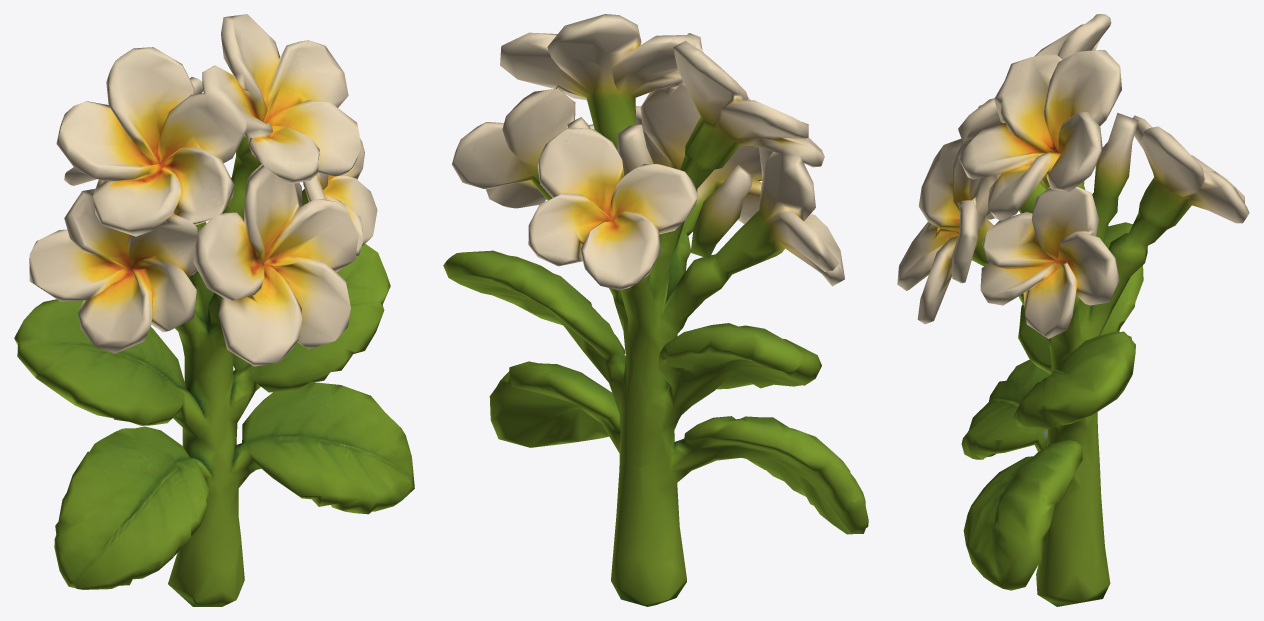
File: plumeria_s5.glb
The picture shows the model from 3 angles, left to right: view 1: azimuth 30°, elevation 25°; view 2: azimuth 150°, elevation 25°; view 3: azimuth 270°, elevation 25°; orthographic projection. The views are drawn at different scales.
Visible parts, largest first — view 1: tripo_node_1f6672ce-0666-45ec-bc07-808dfc5359ed; view 2: tripo_node_1f6672ce-0666-45ec-bc07-808dfc5359ed; view 3: tripo_node_1f6672ce-0666-45ec-bc07-808dfc5359ed.
Part boxes in pixels (x1,y1,x2,y2): tripo_node_1f6672ce-0666-45ec-bc07-808dfc5359ed: [14, 14, 414, 606]; tripo_node_1f6672ce-0666-45ec-bc07-808dfc5359ed: [443, 14, 868, 606]; tripo_node_1f6672ce-0666-45ec-bc07-808dfc5359ed: [897, 14, 1249, 606].
Size of the model in its own units: 0.6794 by 1 by 0.5665.
1 material, 1 textured.
